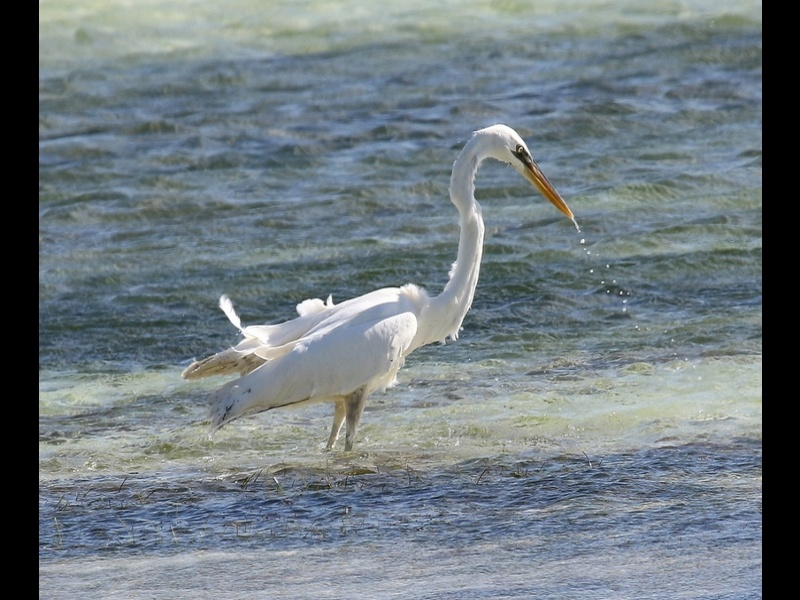heron: (179, 124, 576, 456)
